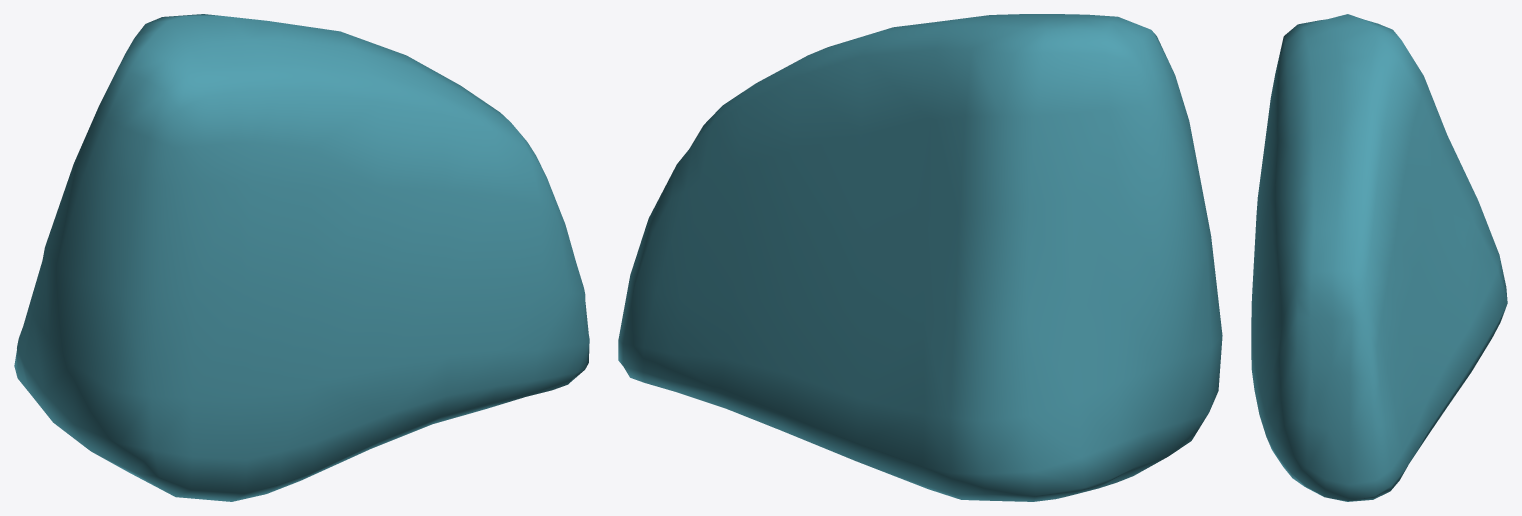
Rendered from VIS_Alpha_Surface.dae.
3 renders of one model, left to right at view 1: azimuth 30°, elevation 25°; view 2: azimuth 150°, elevation 25°; view 3: azimuth 270°, elevation 25°, orthographic. The views are drawn at different scales.
Visible parts, largest first — view 1: VIS_Alpha_Surface; view 2: VIS_Alpha_Surface; view 3: VIS_Alpha_Surface.
Part boxes in pixels (x1=…): VIS_Alpha_Surface: x1=14, y1=14, x2=589, y2=501; VIS_Alpha_Surface: x1=618, y1=14, x2=1222, y2=501; VIS_Alpha_Surface: x1=1251, y1=14, x2=1507, y2=501.
Bounding box in the file's own units: 10.65 × 5.76 × 8.5.
